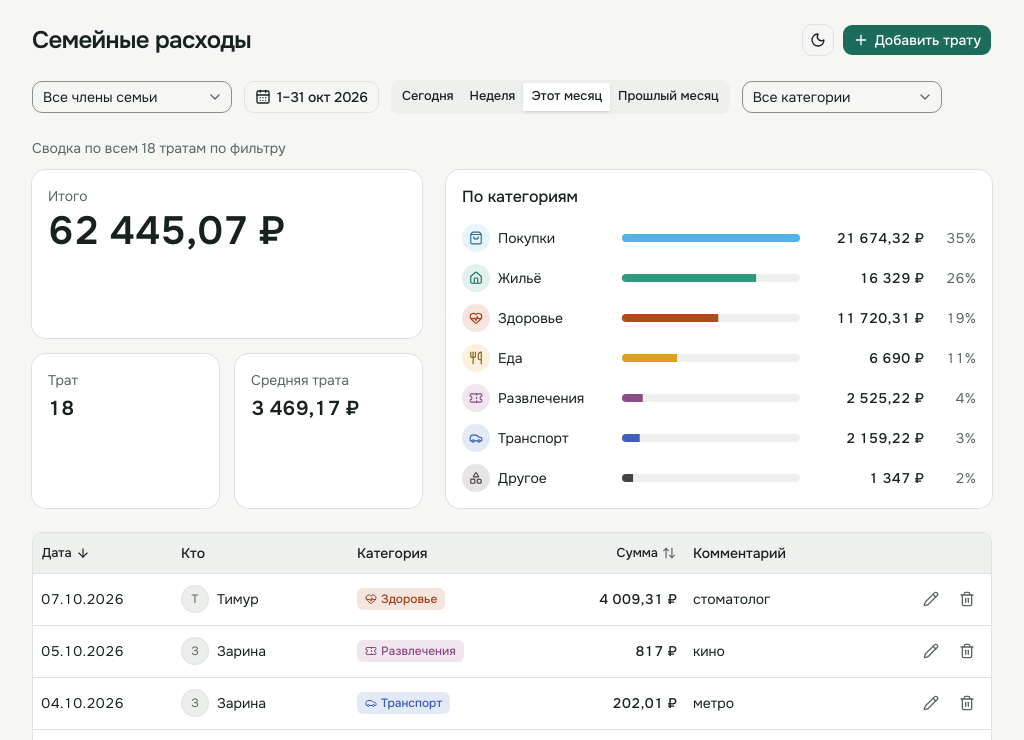
Test: expenses table › sorts by amount on the server and toggles the direction
Click the button "Сумма": (646, 553) [606, 539, 687, 567]
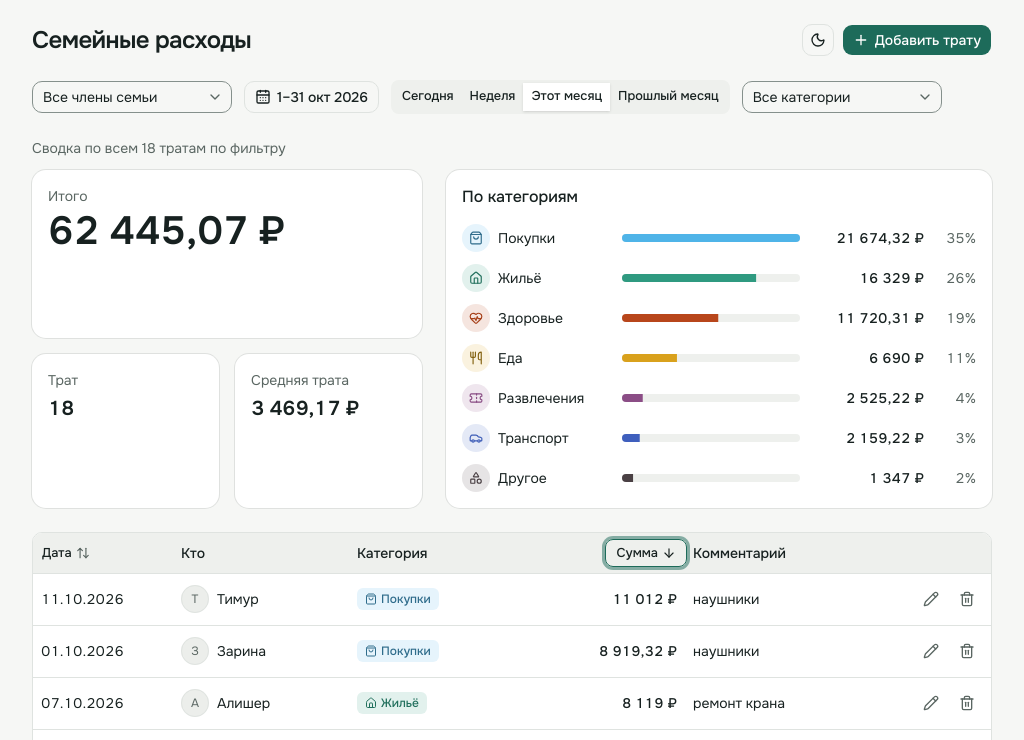
Click the button "Сумма": (646, 553) [606, 539, 687, 567]
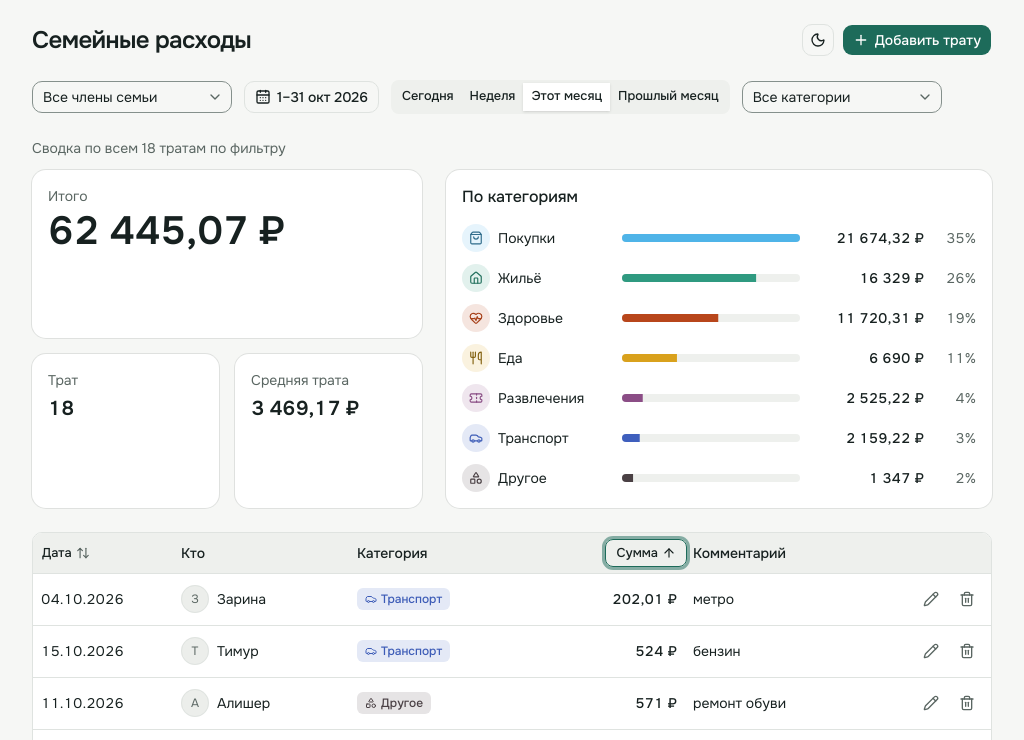
Result: the cell "202,01 ₽" is shown at [525, 573, 685, 625]
